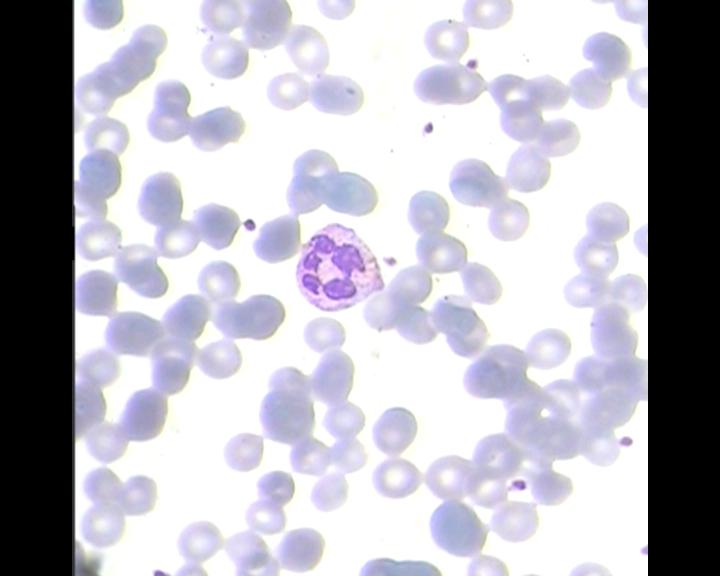neut: (295, 219, 385, 315)
